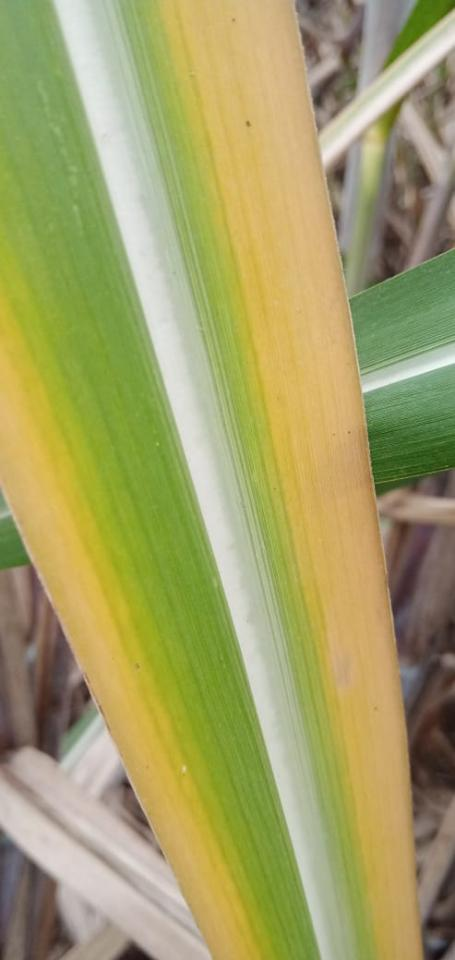Yellow: (180, 0, 422, 959), (0, 297, 255, 959)
